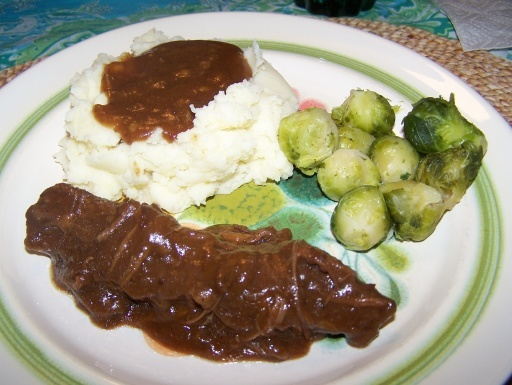background: (18, 15, 391, 218)
